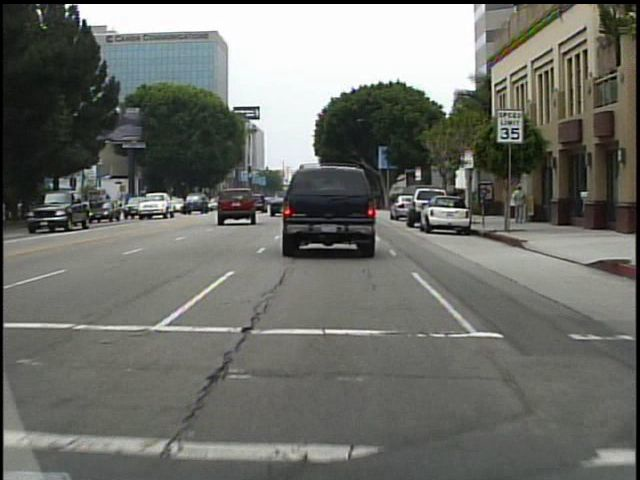person: (510, 181, 530, 228), (448, 184, 463, 220)
